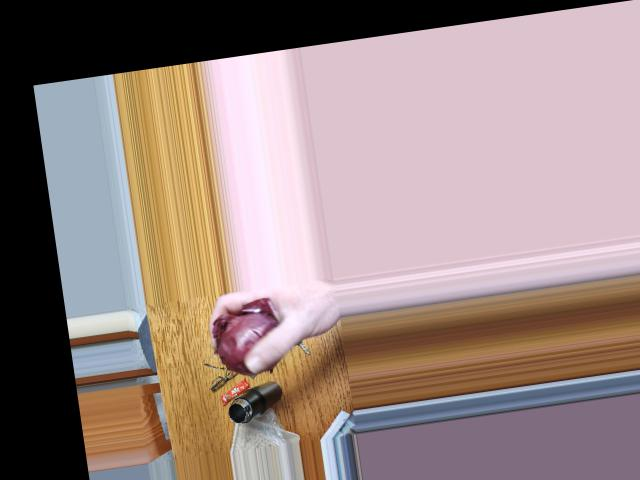onion: (215, 303, 289, 368)
